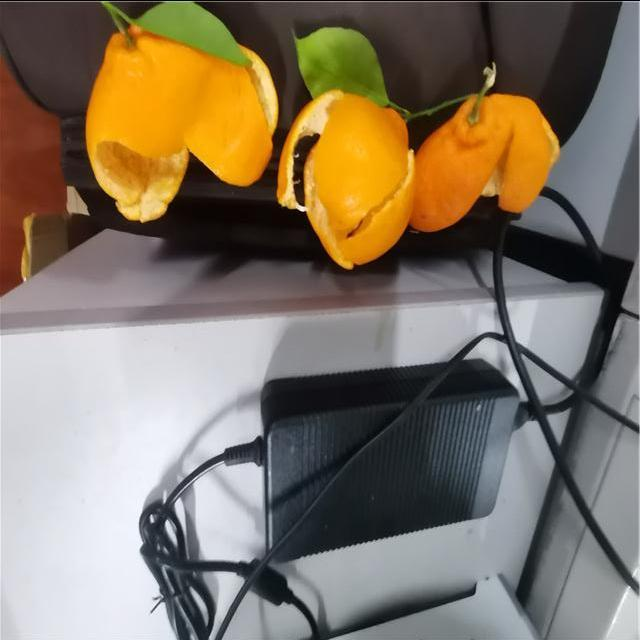orange peel: (91, 15, 273, 220), (275, 90, 420, 270), (400, 88, 560, 228)
